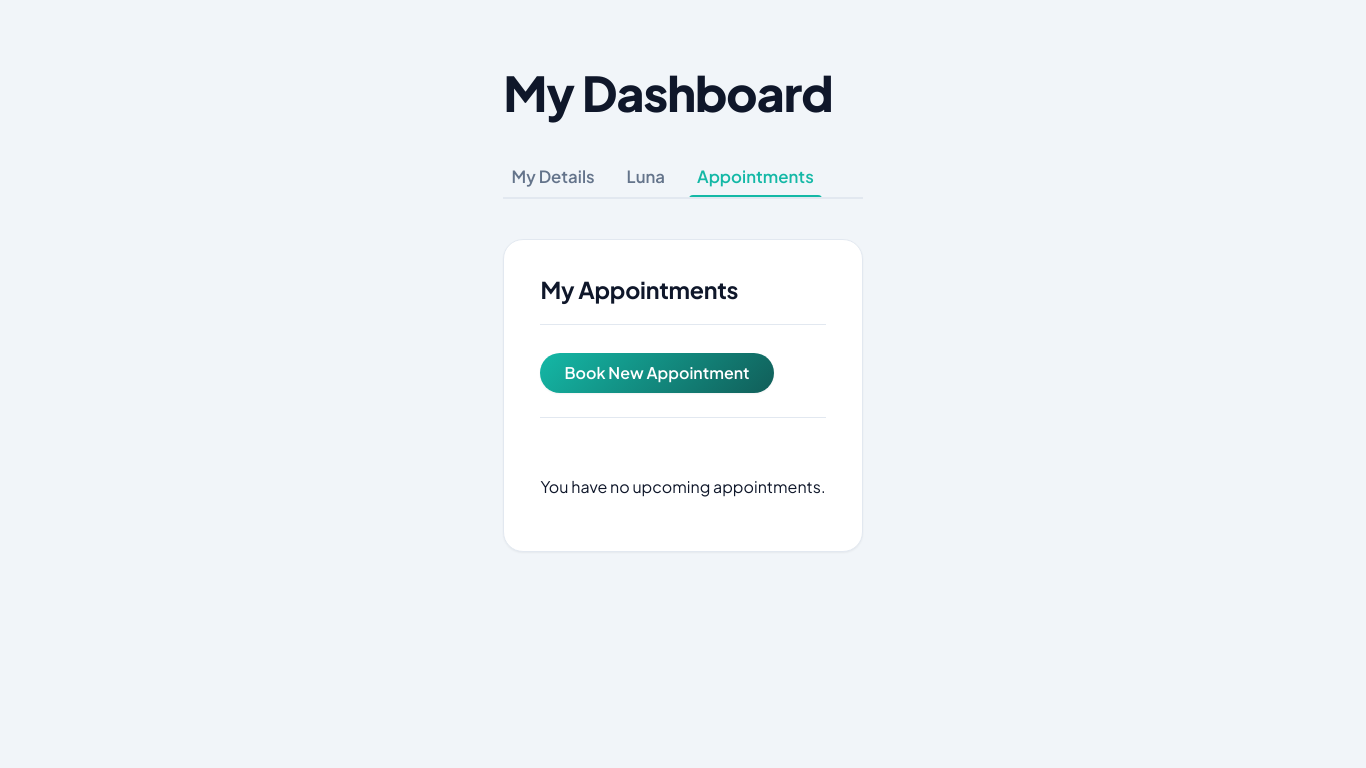
Scenario: OwnerDashboardPage › clicking Add New Pet opens the add pet modal
Click the button "My Details". click: (553, 176)
box: [504,154,603,199]
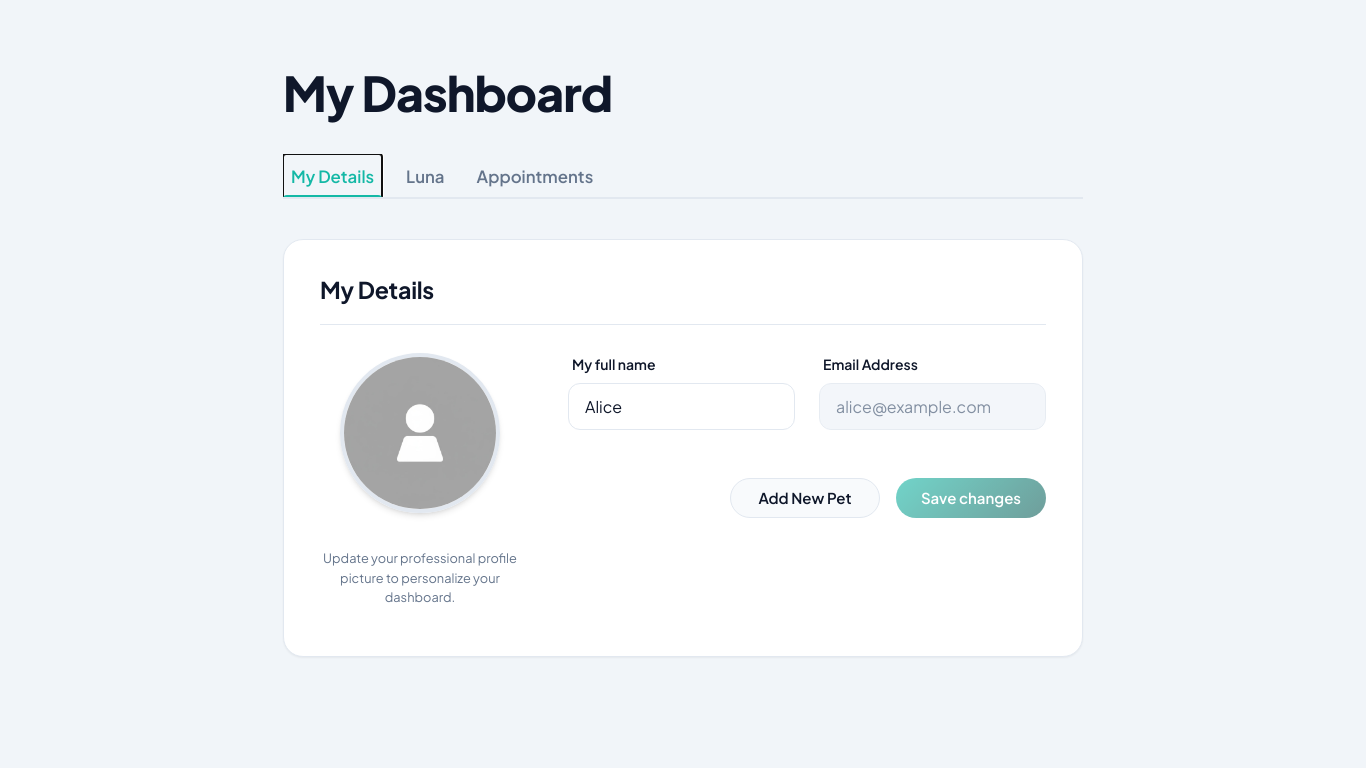
Click the button "Add New Pet". click: (805, 498)
box: [730,478,880,518]
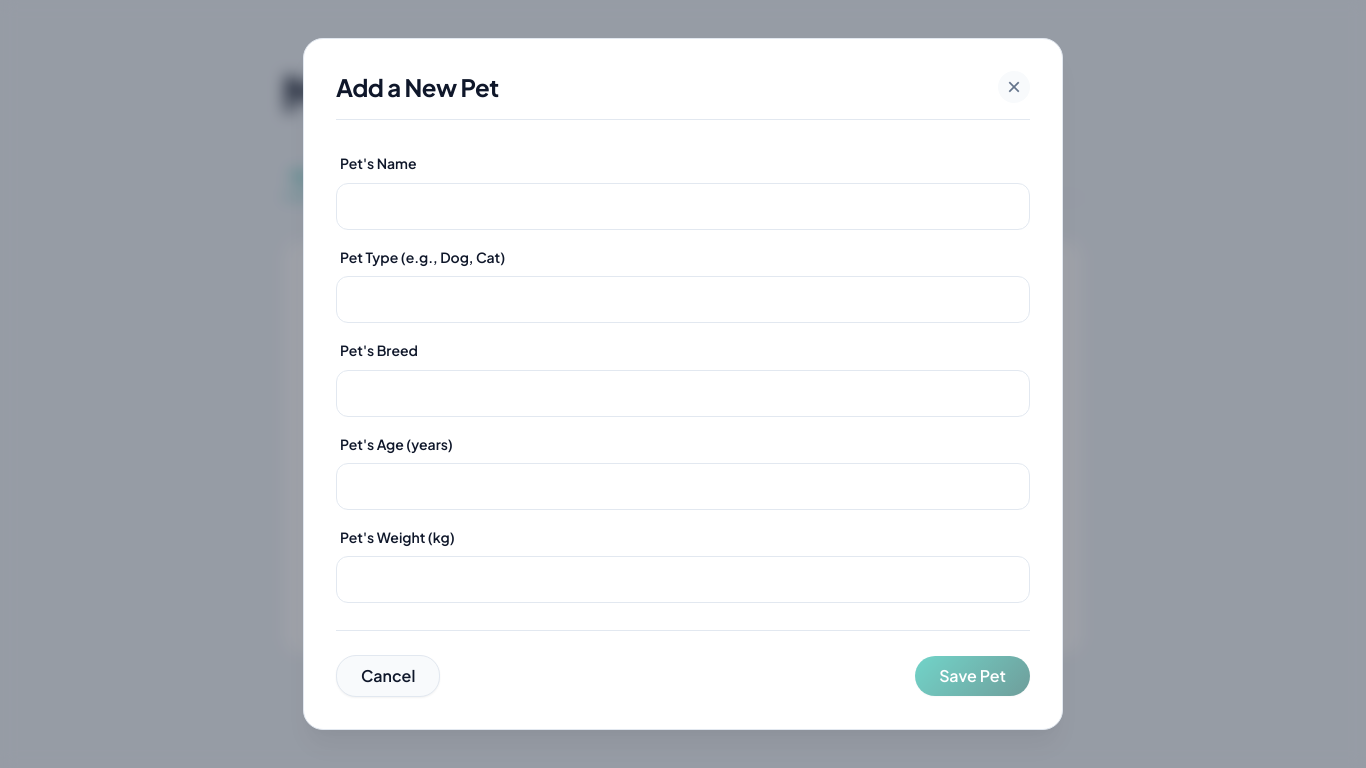
Result: the heading "Add a New Pet" is shown at [336,73,499,102]
